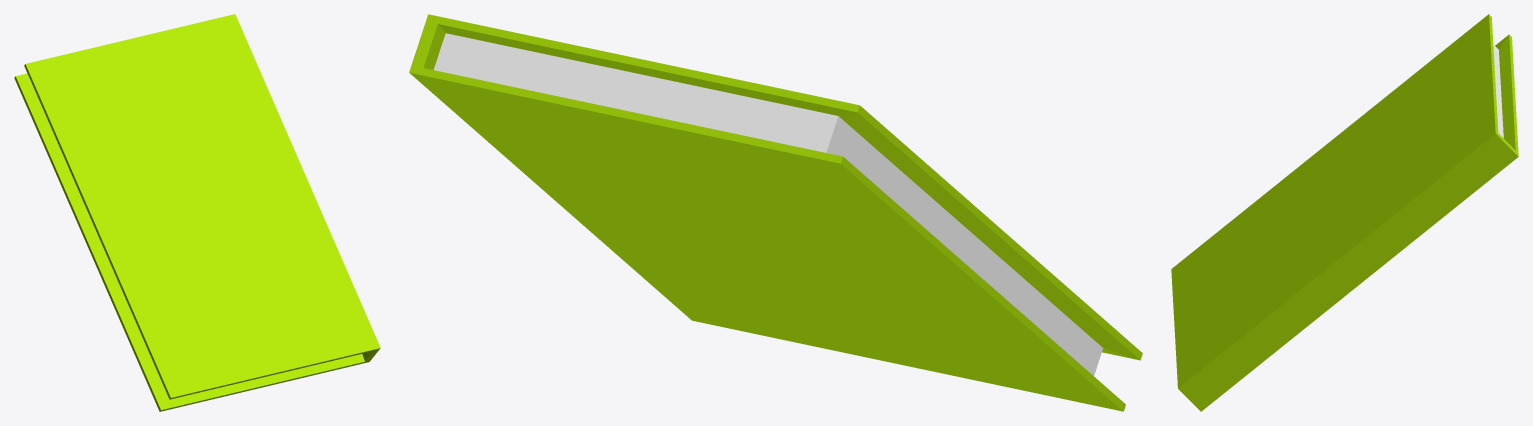
Rendered from LibroVerdeClaro.fbx.
3 views of the same model, side by side, from view 1: azimuth 30°, elevation 25°; view 2: azimuth 150°, elevation 25°; view 3: azimuth 270°, elevation 25° (orthographic). The views are drawn at different scales.
Visible parts, largest first — view 1: Cubo.1929; view 2: Cubo.1929; view 3: Cubo.1929.
Part boxes in pixels (left/top/right/bottom): Cubo.1929: left=14, top=14, right=380, bottom=411; Cubo.1929: left=409, top=14, right=1142, bottom=411; Cubo.1929: left=1171, top=14, right=1518, bottom=411.
Size of the model in its own units: 17.81 by 20.13 by 22.45.
